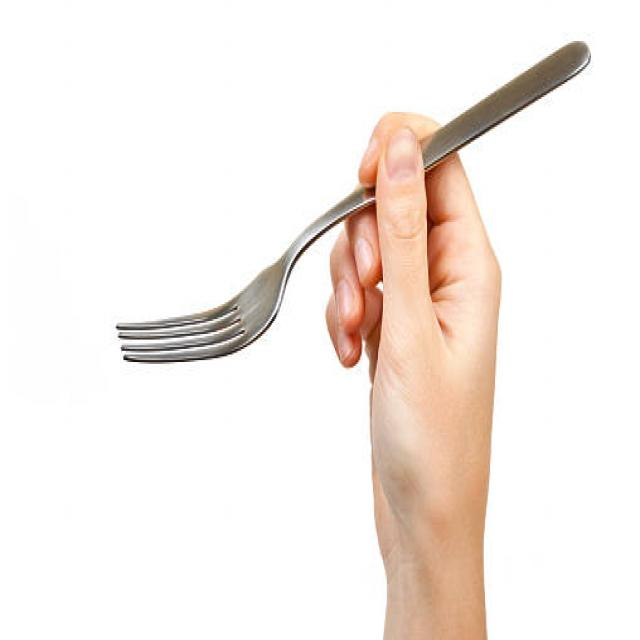fork: (114, 34, 592, 364)
